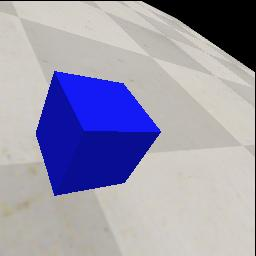box: (36, 71, 161, 196)
